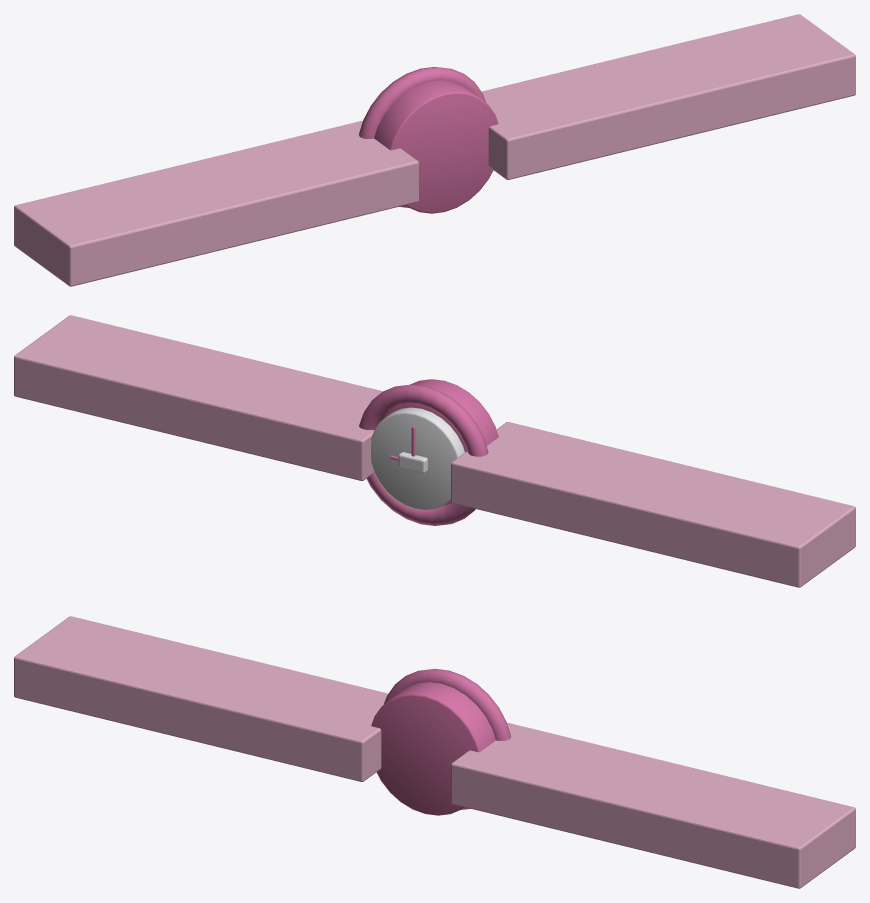
File: VM-ACC-EXT94.glb
3 views of the same model, one above another, from view 1: azimuth 30°, elevation 25°; view 2: azimuth 150°, elevation 25°; view 3: azimuth 330°, elevation 25° (orthographic).
Visible parts, largest first — view 1: Prenda Longines Master Collection; view 2: Prenda Longines Master Collection; view 3: Prenda Longines Master Collection.
Boxes of the visible parts, bbox=[...] form: Prenda Longines Master Collection: bbox=[14, 14, 855, 286]; Prenda Longines Master Collection: bbox=[14, 315, 855, 587]; Prenda Longines Master Collection: bbox=[14, 616, 855, 888].
Size of the model in its own units: 0.3736 by 0.0623 by 0.0467.
